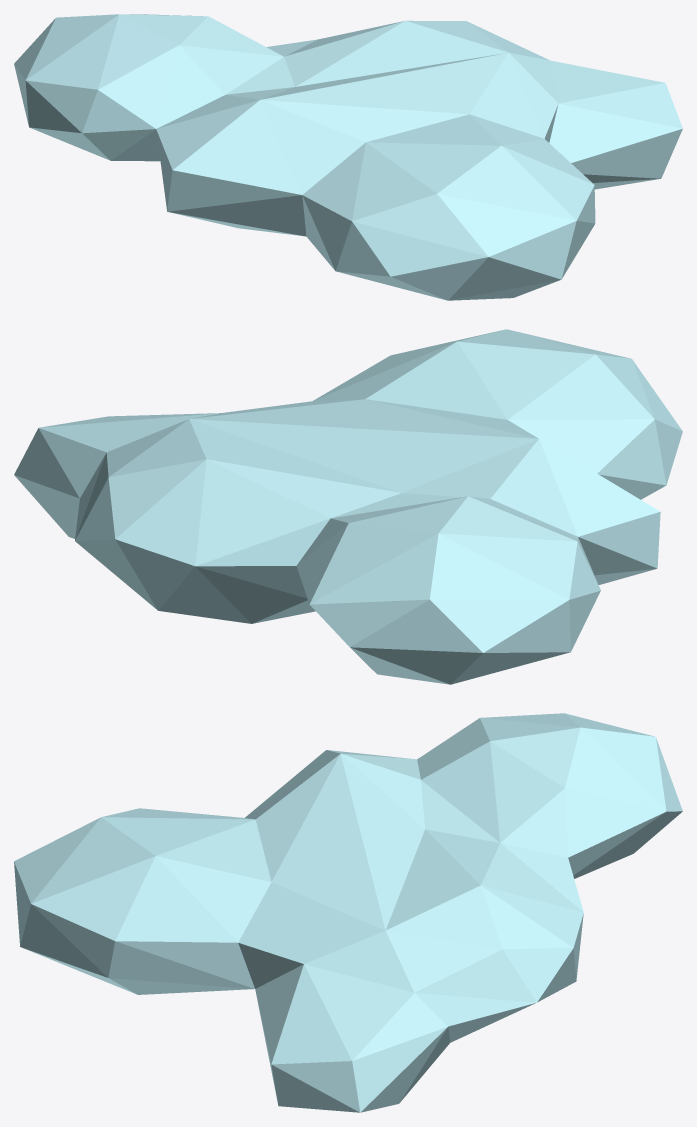
The model's file is Cloud_5.glb.
3 renders of one model, top to bottom at view 1: azimuth 30°, elevation 25°; view 2: azimuth 150°, elevation 25°; view 3: azimuth 270°, elevation 25°, orthographic. The views are drawn at different scales.
Visible parts, largest first — view 1: Cloud_05; view 2: Cloud_05; view 3: Cloud_05.
Boxes of the visible parts, box(x1,y1,x2,y2) form: Cloud_05: box(14, 14, 682, 300); Cloud_05: box(14, 329, 682, 684); Cloud_05: box(14, 713, 682, 1112).
Size of the model in its own units: 5.92 by 1.72 by 5.76.
